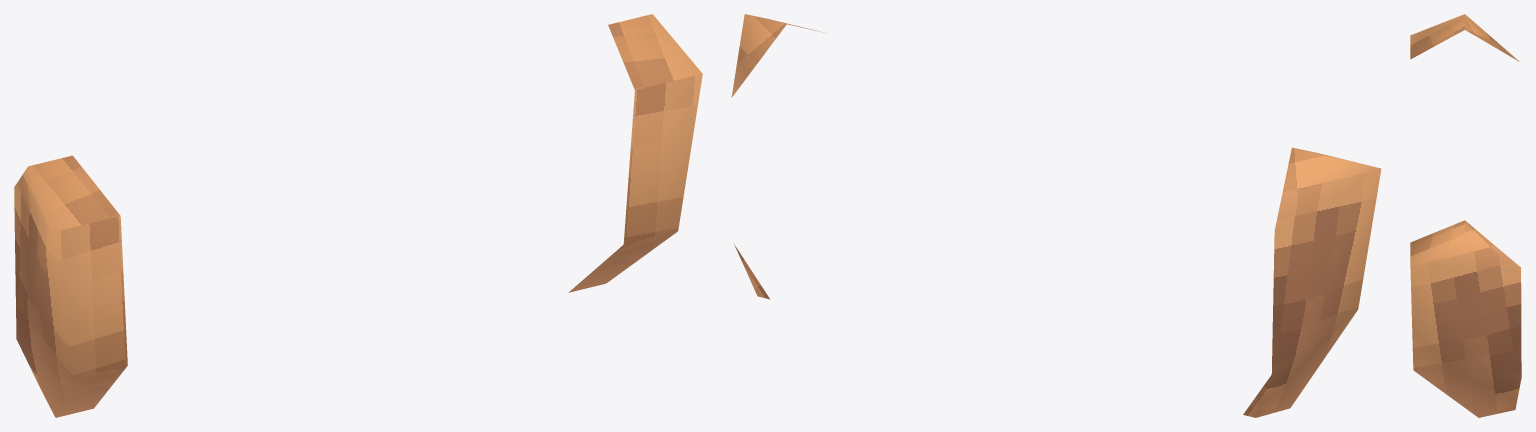
File: ears.glb
3 views of the same model, side by side, from view 1: azimuth 30°, elevation 25°; view 2: azimuth 150°, elevation 25°; view 3: azimuth 270°, elevation 25° (orthographic). The views are drawn at different scales.
Parts seen in each view (by area): view 1: ears_human_round; view 2: ears_human_round; view 3: ears_human_round.
Part boxes in pixels (bbox=[...]): ears_human_round: bbox=[14, 14, 702, 417]; ears_human_round: bbox=[731, 14, 1381, 417]; ears_human_round: bbox=[1410, 14, 1521, 417].
Bounding box in the file's own units: 0.1762 × 0.0693 × 0.0358.
Materials: 1 (1 with a texture image).
